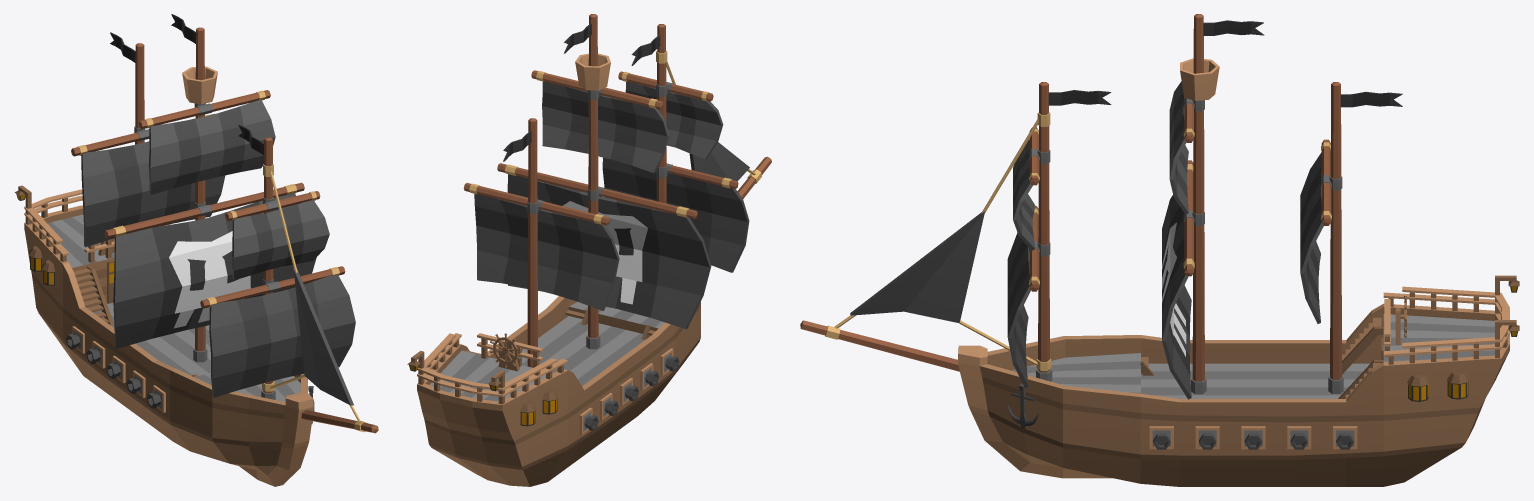
The model's file is pirate-ship-2.glb.
3 views of the same model, side by side, from view 1: azimuth 30°, elevation 25°; view 2: azimuth 150°, elevation 25°; view 3: azimuth 270°, elevation 25° (orthographic). The views are drawn at different scales.
Parts seen in each view (by area): view 1: pirate ship 2; view 2: pirate ship 2; view 3: pirate ship 2.
Part boxes in pixels (box(x1,y1,x2,y2)): pirate ship 2: box(14, 14, 378, 486); pirate ship 2: box(407, 14, 771, 486); pirate ship 2: box(800, 14, 1519, 486).
Size of the model in its own units: 9.59 by 18.41 by 25.93.
1 material, 1 textured.
